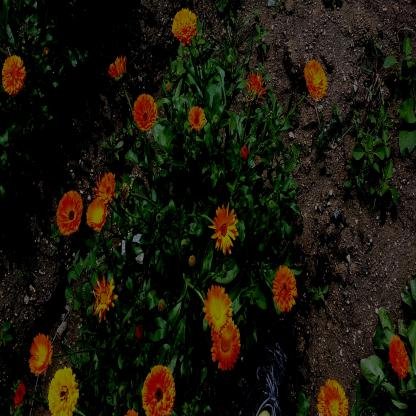marigold: (142, 368, 175, 416), (49, 370, 77, 416), (212, 327, 240, 368), (206, 285, 230, 330), (320, 379, 347, 416), (58, 194, 82, 235), (214, 206, 235, 250), (28, 332, 50, 373), (2, 55, 25, 94), (303, 60, 326, 98), (172, 9, 197, 43), (275, 268, 294, 310), (132, 96, 156, 126), (389, 337, 407, 376), (87, 199, 106, 232), (96, 284, 113, 310), (99, 174, 114, 199), (189, 107, 205, 130)
